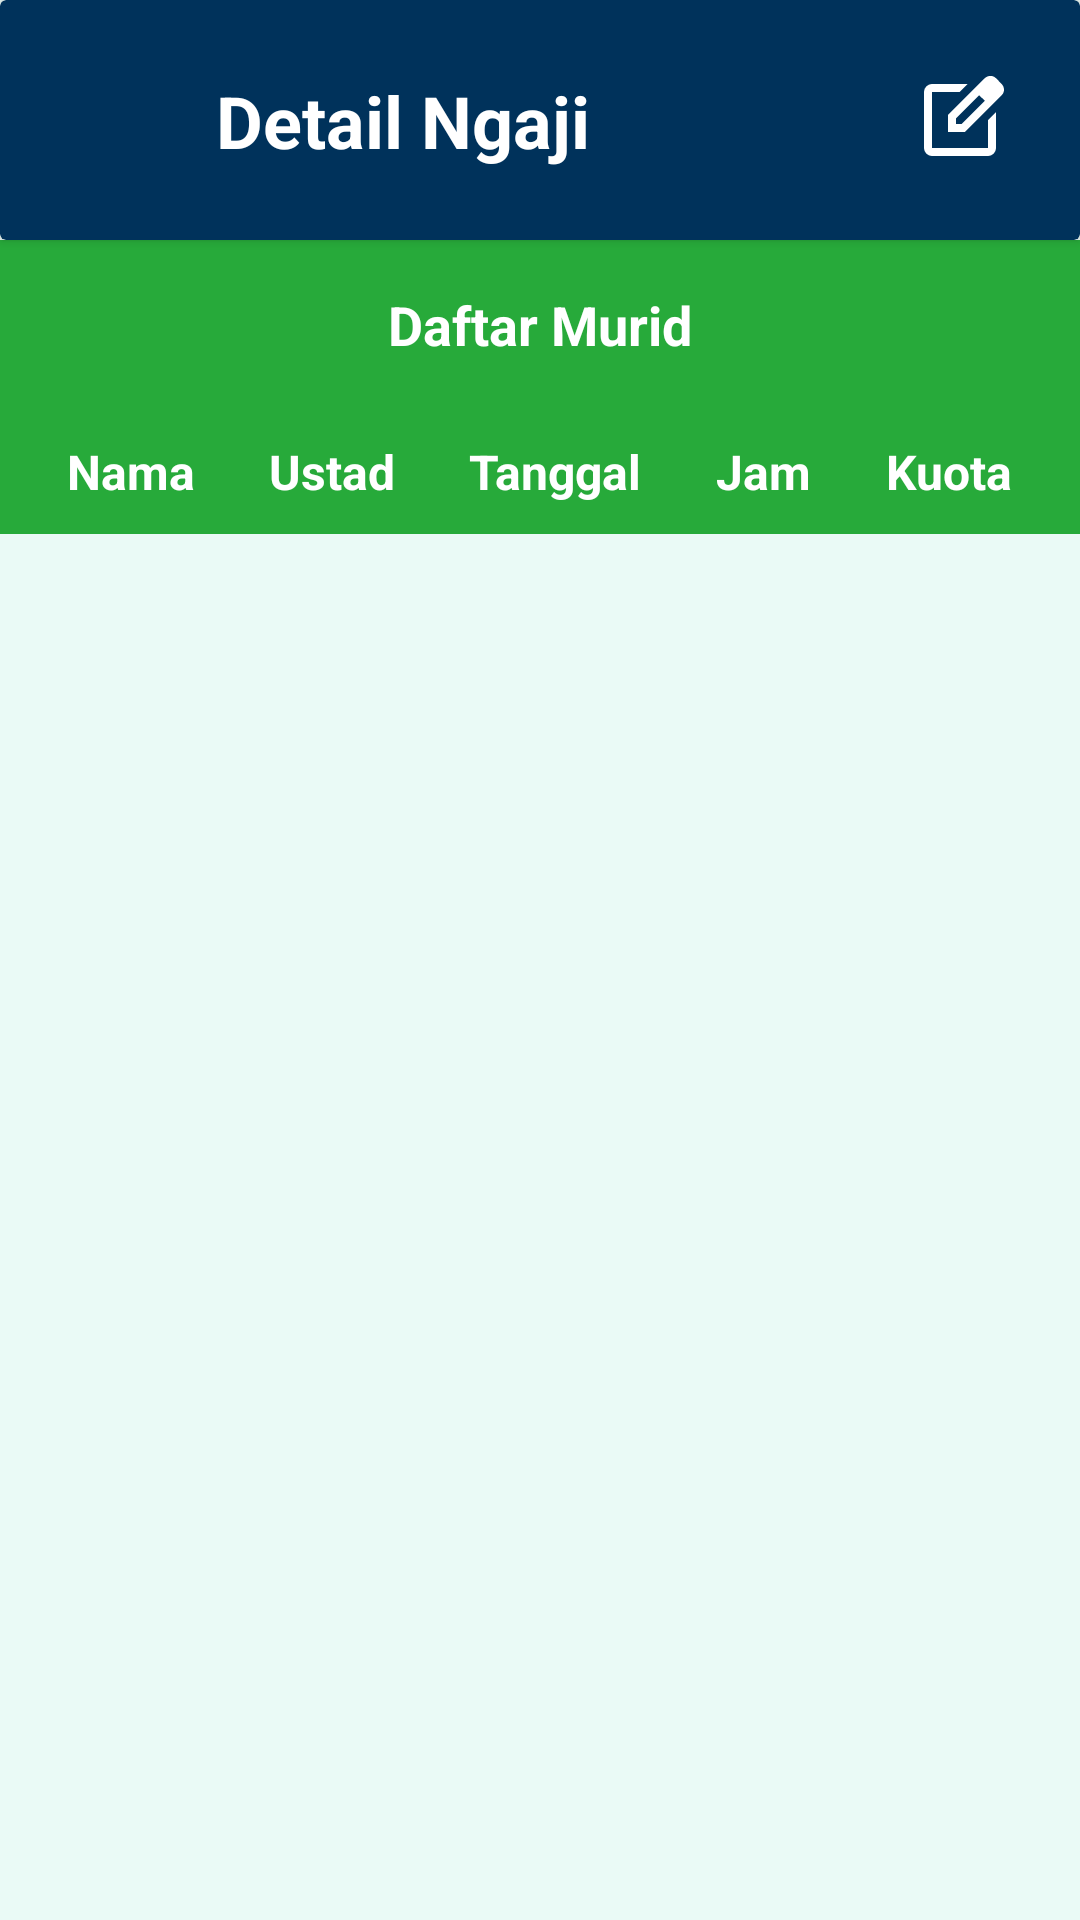

Icons on this 1080 × 1920 Android screen, each with the point to tap as [x,y]:
edit square: [964,116]
